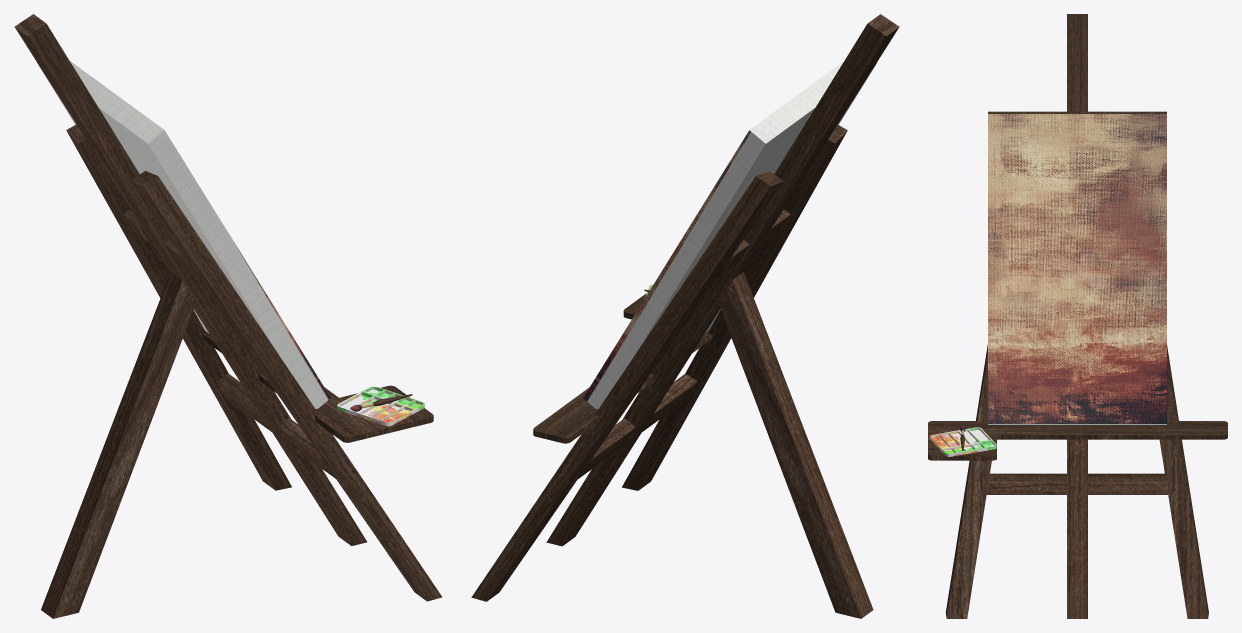
The model's file is Canvas Painting with Paintbrush.glb.
3 renders of one model, left to right at view 1: azimuth 30°, elevation 25°; view 2: azimuth 150°, elevation 25°; view 3: azimuth 270°, elevation 25°, orthographic. The views are drawn at different scales.
Parts seen in each view (by area): view 1: Canvas Stand; view 2: Canvas Stand; view 3: Canvas Stand.
Part boxes in pixels (x1,y1,x2,y2): Canvas Stand: (14, 14, 441, 618); Canvas Stand: (471, 14, 899, 618); Canvas Stand: (928, 14, 1227, 618).
Bounding box in the file's own units: 1.21 × 2.02 × 1.15.
Materials: 2 (1 with a texture image).
